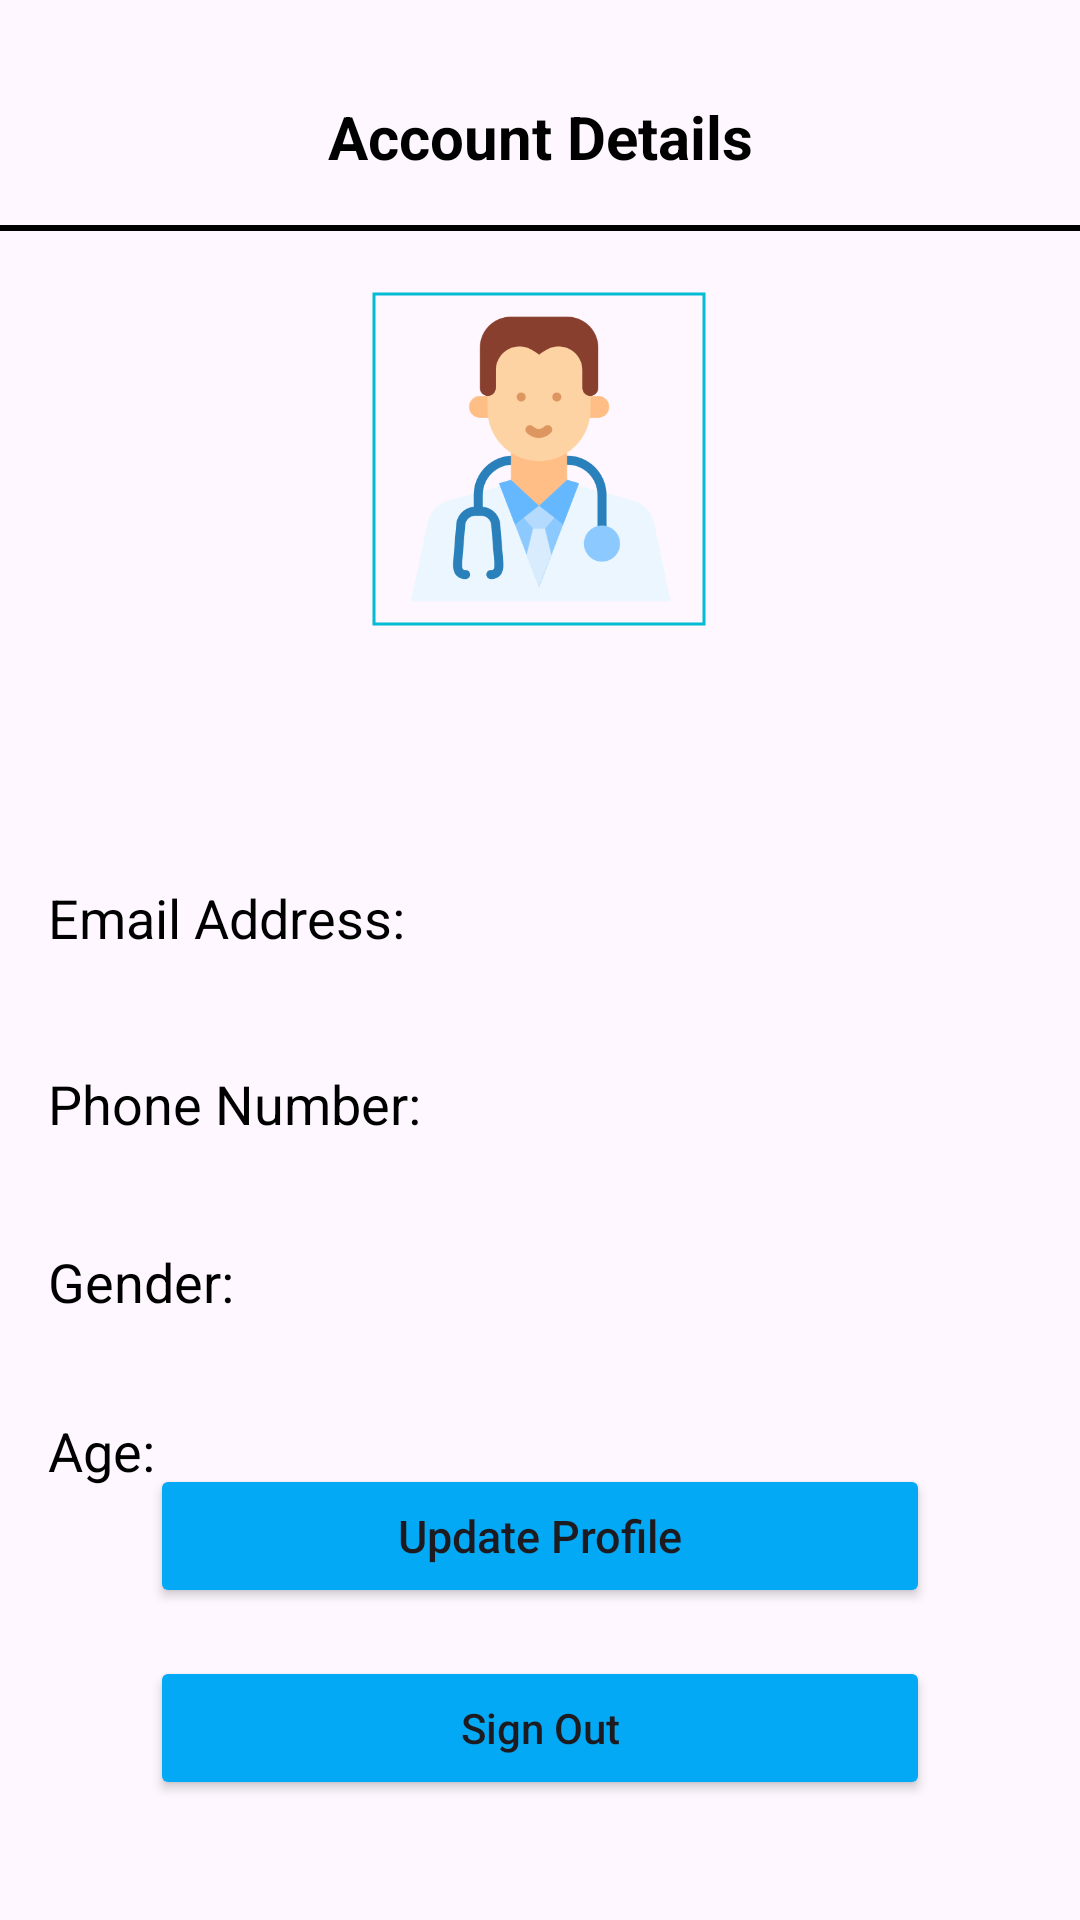

Named icons in this screenshot (1080*1920) and their bounding boxes, (x1, y1, x2, y2):
doctor: (372, 292, 706, 626)
